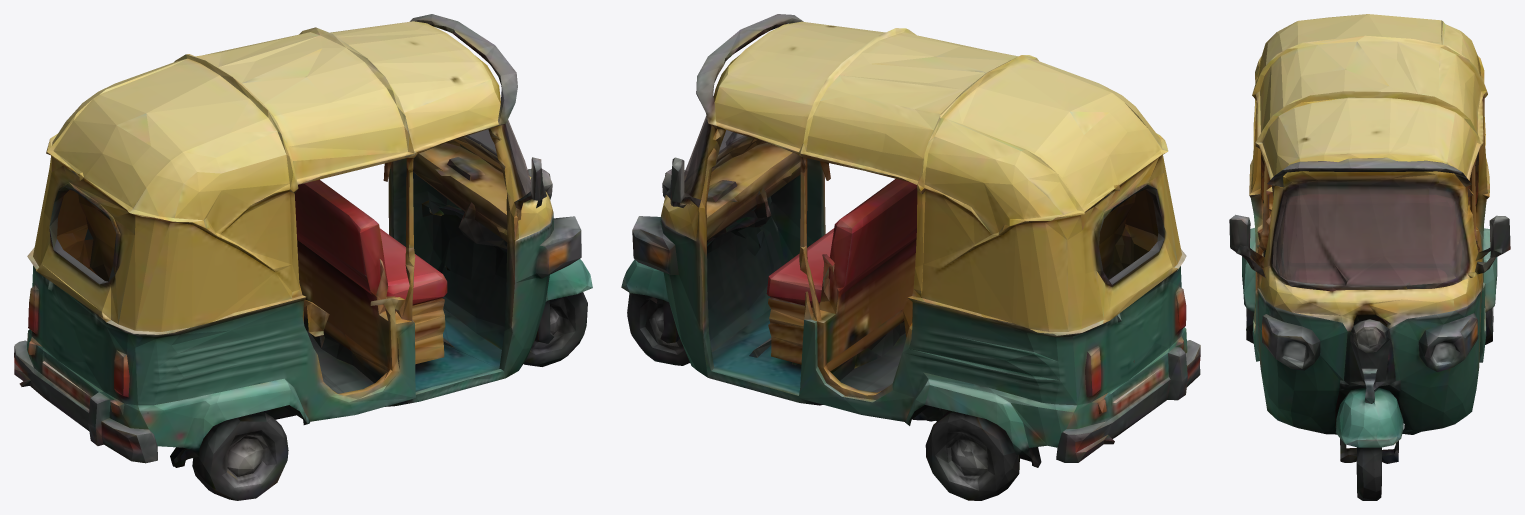
File: cng.glb
The picture shows the model from 3 angles, left to right: view 1: azimuth 30°, elevation 25°; view 2: azimuth 150°, elevation 25°; view 3: azimuth 270°, elevation 25°; orthographic projection. The views are drawn at different scales.
Parts seen in each view (by area): view 1: body, wheel_rear, wheel_front; view 2: body, wheel_rear, wheel_front; view 3: body, wheel_front, wheel_rear.
Part boxes in pixels (left/top/right/bottom): body: left=14, top=14, right=592, bottom=467; wheel_rear: left=184, top=411, right=288, bottom=500; wheel_front: left=523, top=280, right=587, bottom=366; body: left=621, top=14, right=1200, bottom=467; wheel_rear: left=925, top=410, right=1030, bottom=500; wheel_front: left=627, top=271, right=689, bottom=365; body: left=1229, top=14, right=1510, bottom=499; wheel_front: left=1335, top=401, right=1403, bottom=500; wheel_rear: left=1246, top=307, right=1493, bottom=344.
Size of the model in its own units: 2.47 by 1.63 by 1.28.
1 material, 1 textured.
